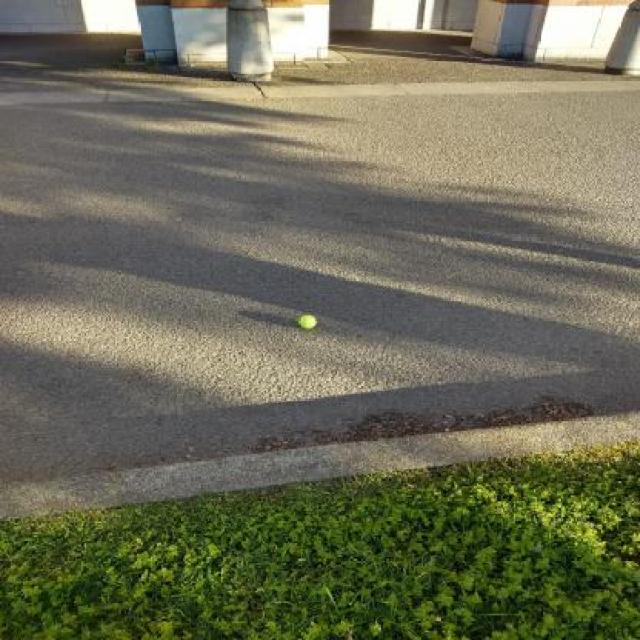Tennis_Ball: (302, 310, 316, 336)
